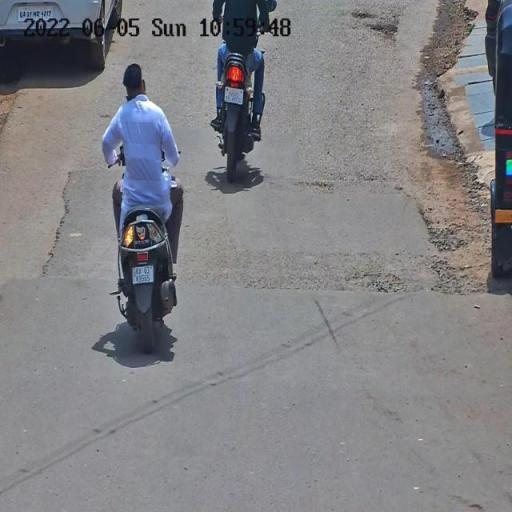numberplate: (131, 265, 155, 286)
using mobile: (124, 93, 135, 103)
